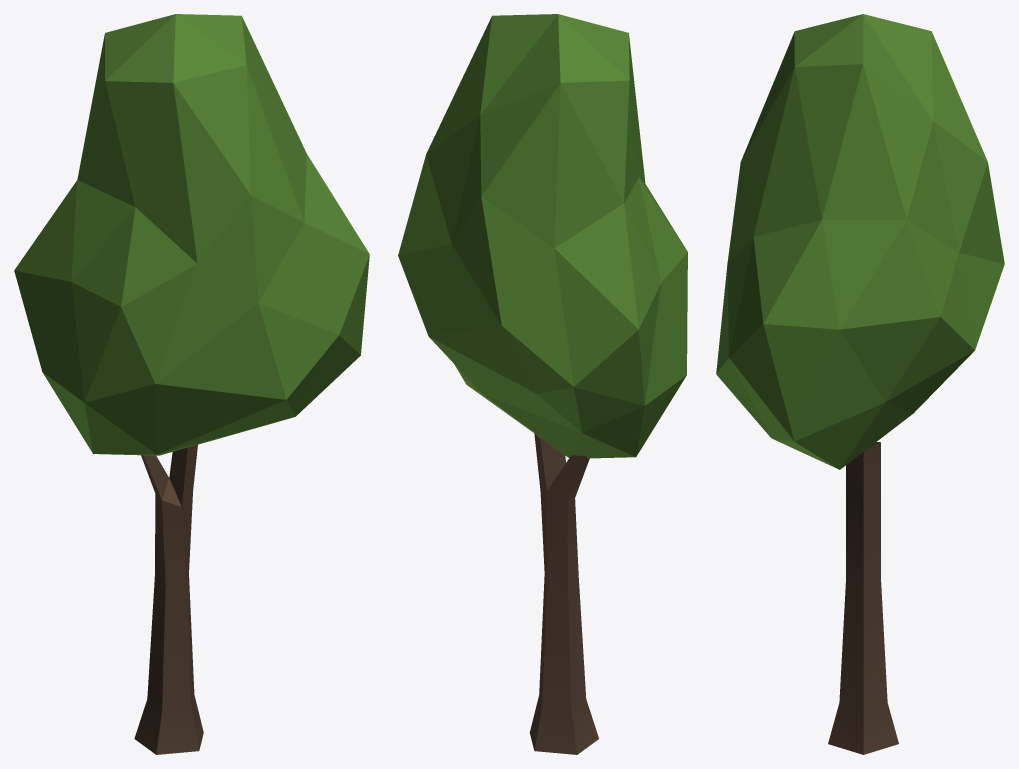
Rendered from tree02.fbx.
3 renders of one model, left to right at view 1: azimuth 30°, elevation 25°; view 2: azimuth 150°, elevation 25°; view 3: azimuth 270°, elevation 25°, orthographic.
Visible parts, largest first — view 1: pSolid2; view 2: pSolid2; view 3: pSolid2.
Part boxes in pixels (left/top/right/bottom): pSolid2: left=14, top=14, right=369, bottom=754; pSolid2: left=398, top=14, right=687, bottom=754; pSolid2: left=716, top=14, right=1004, bottom=754.
Size of the model in its own units: 4.26 by 10.68 by 3.84.
